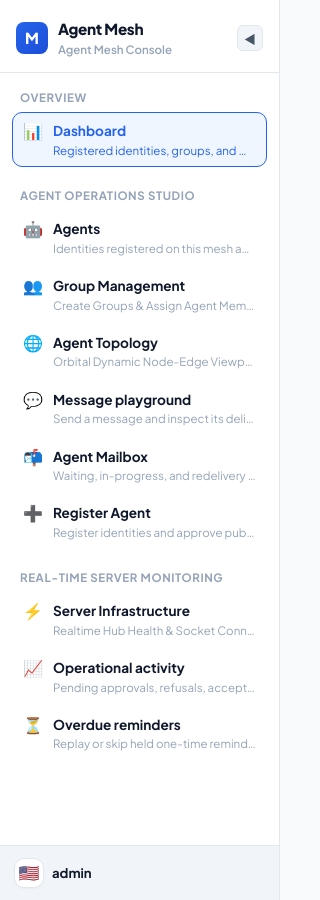
Test case: Sidebar language control › relabels the menu out of the dictionary, and records the choice
Click the button "🇺🇸" at coordinates (29, 873), box [14,858,44,888]
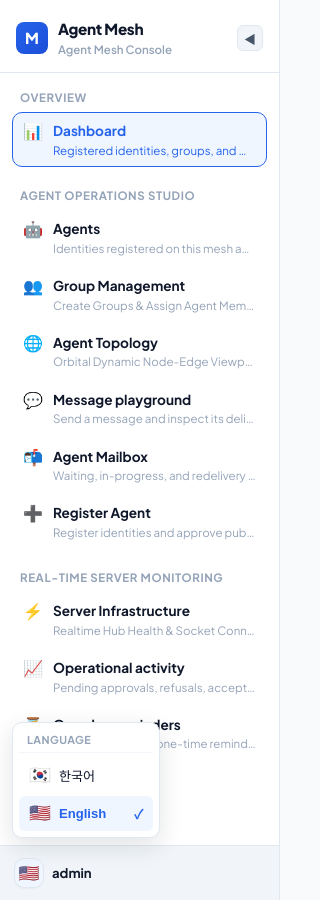
Click the text "한국어" at coordinates (77, 776), box [59,766,95,785]
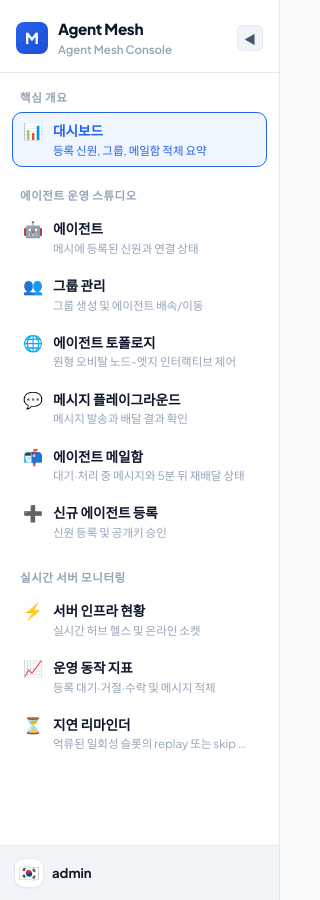
Expected: the link "Message playground" no longer shows "Message playground"
Expected: the text "Agent Operations Studio" is gone
Click the button "🇰🇷" at coordinates (29, 873), box [14,858,44,888]
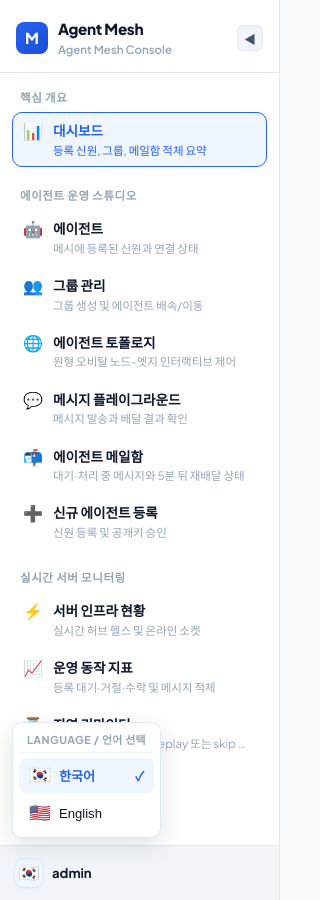
Click the text "English" at coordinates (80, 814), box [59,806,102,821]
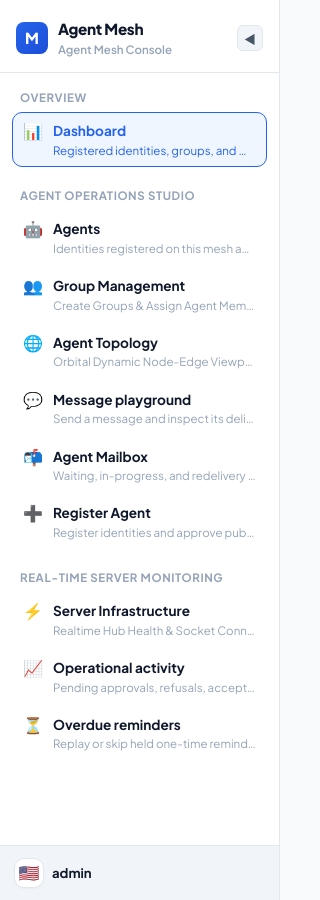
Expected: the link "메시에 등록된 신원과 연결 상태" no longer shows "메시에 등록된 신원과 연결 상태"
